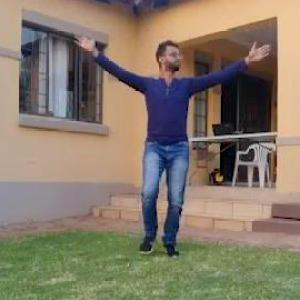takeoff: (62, 22, 267, 246)
